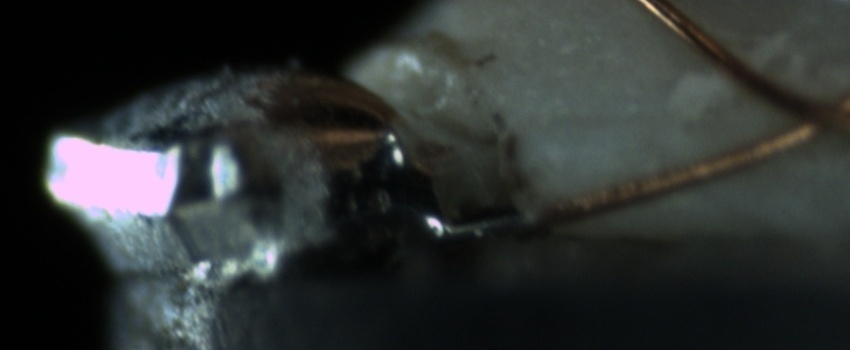CL: (762, 76, 846, 149)
DL: (538, 85, 687, 150)
